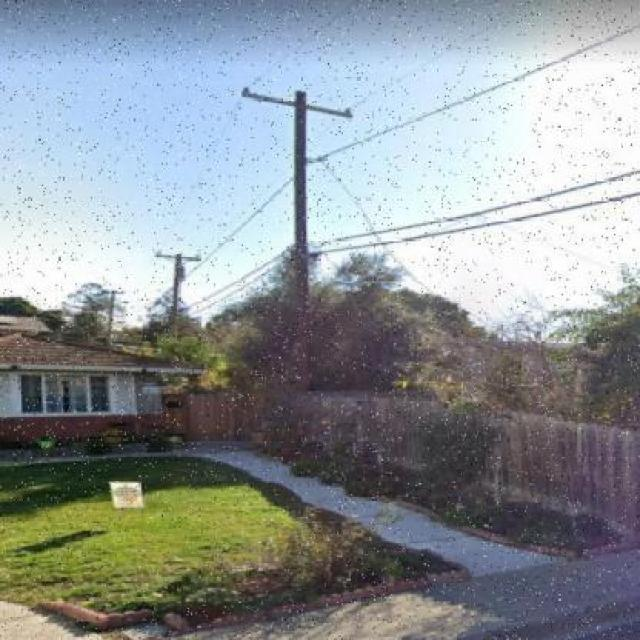pole: (188, 37, 426, 526)
